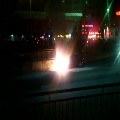fire: (51, 48, 69, 74)
